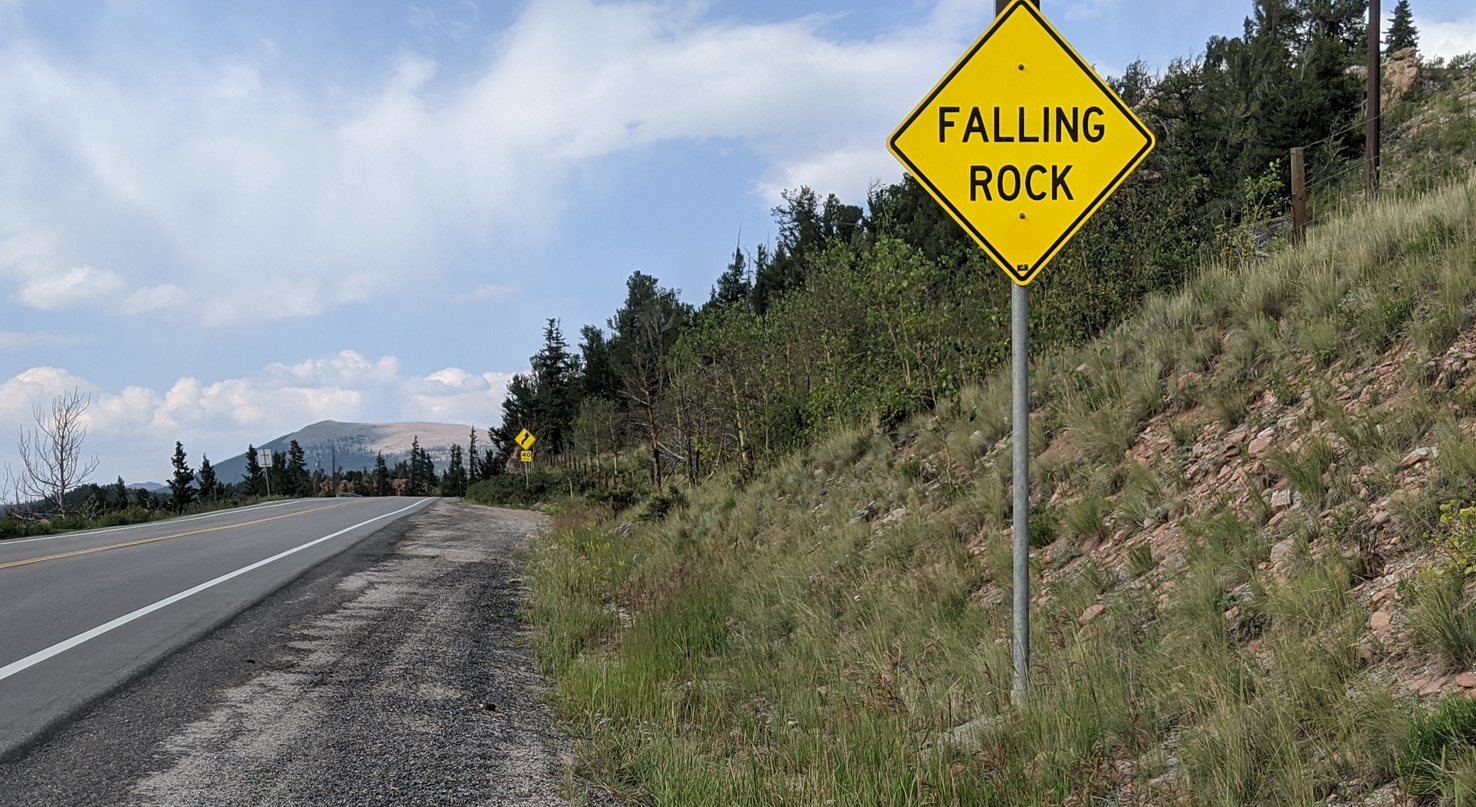FallenSign: (892, 2, 1157, 274)
Tree: (1218, 3, 1370, 225), (757, 196, 881, 380), (590, 268, 699, 459), (678, 326, 780, 467)
